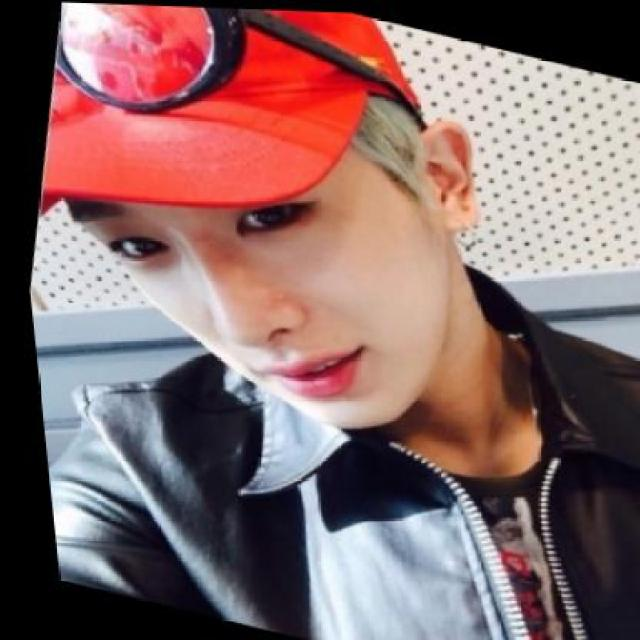hat: (36, 2, 414, 212)
